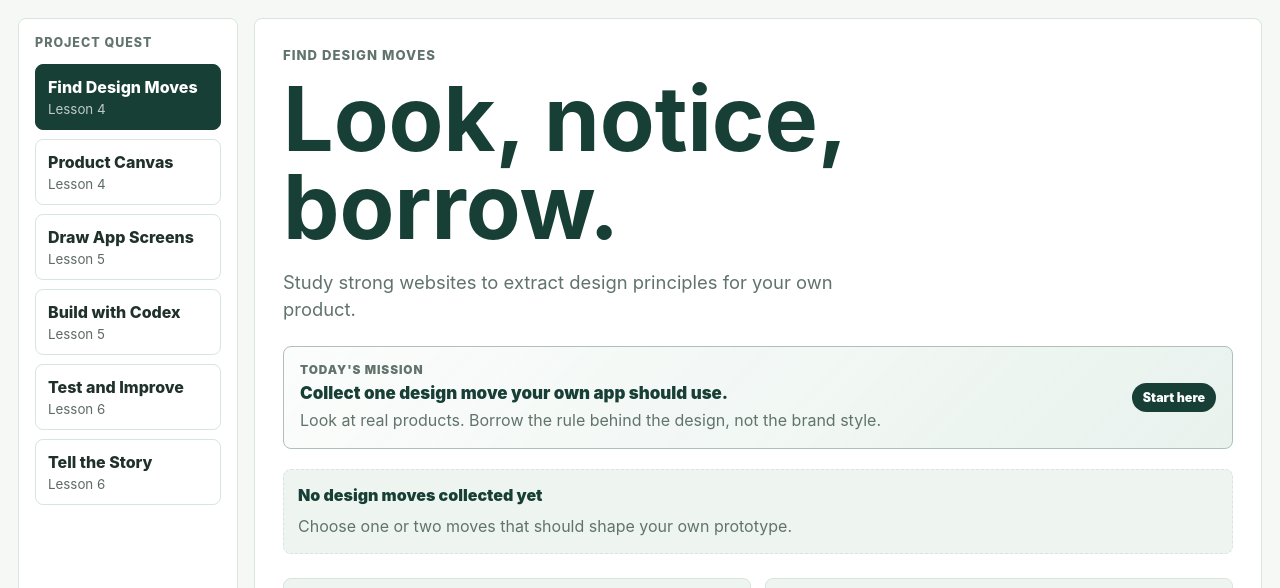
it: App › opens the Evidence Pack module
Click the button "Tell the Story Lesson 6" at coordinates (128, 472), box left=35, top=439, right=221, bottom=505
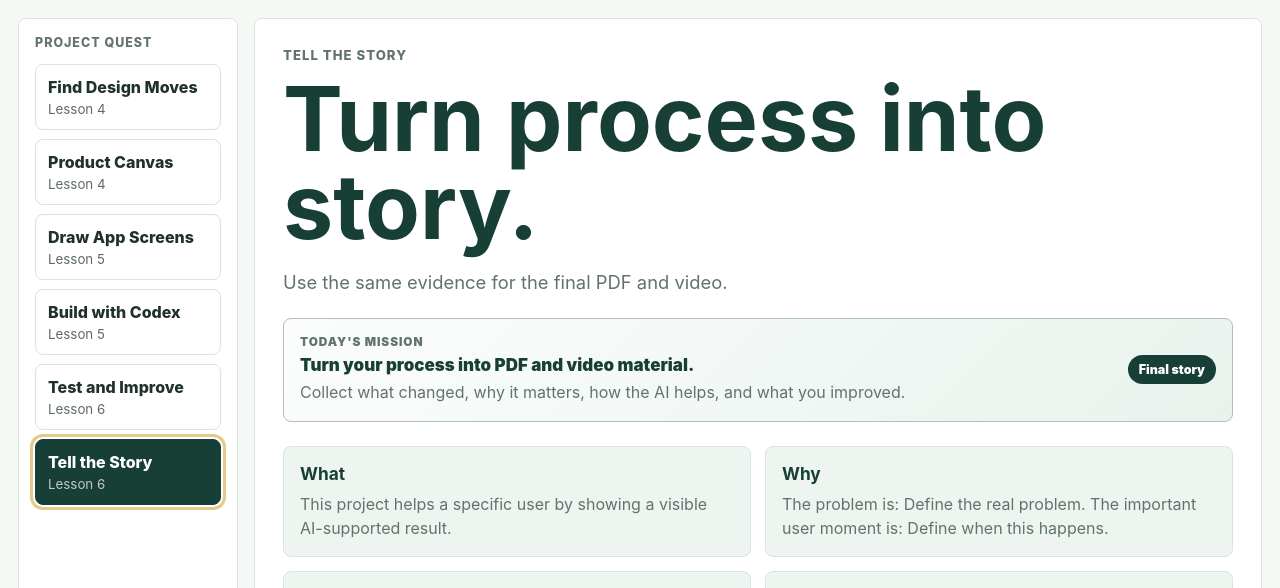
Expected: the heading "Turn process into story." is shown, left=283, top=75, right=1063, bottom=251
